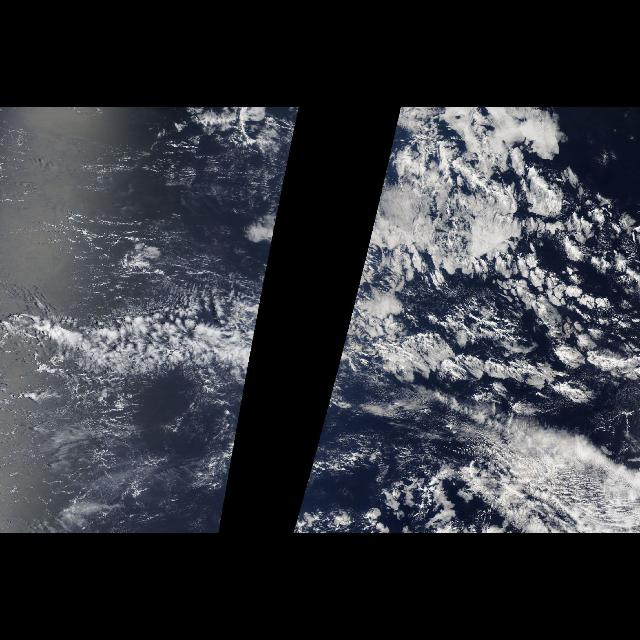Fish: (8, 282, 264, 391)
Flower: (515, 166, 639, 404)
Gravel: (7, 404, 167, 528)
